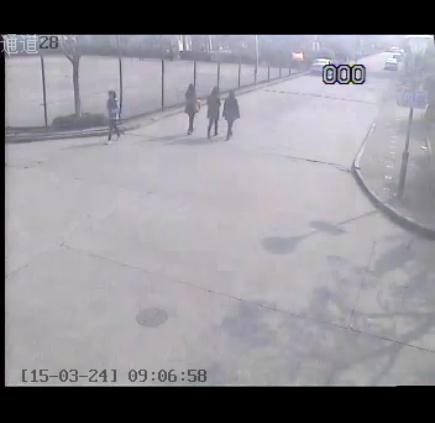person: (103, 88, 124, 146), (204, 84, 223, 139), (222, 89, 241, 143), (183, 81, 200, 139)
